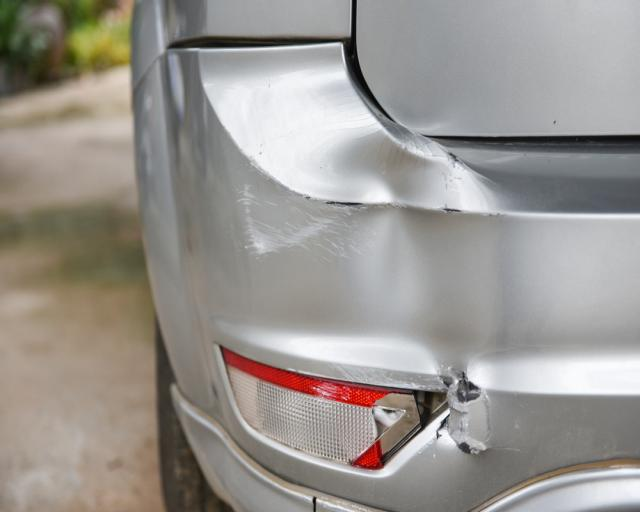dent: (318, 131, 506, 380)
scratch: (235, 152, 357, 265)
